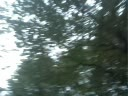window: (10, 14, 101, 96)
